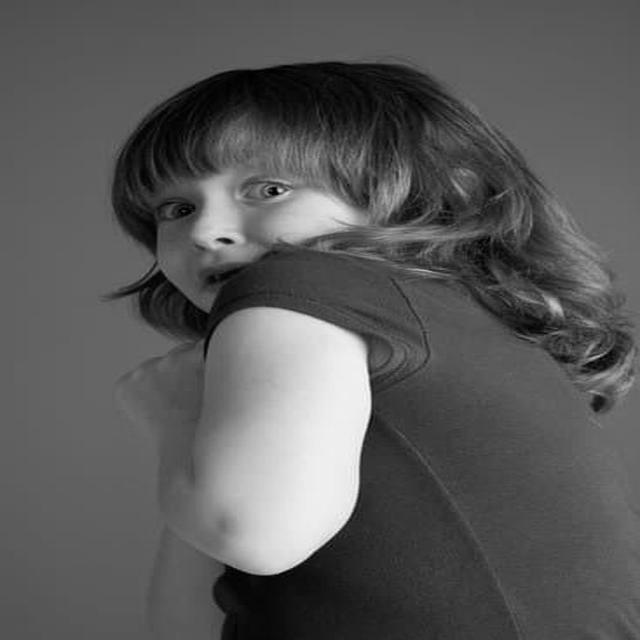Fear: (156, 150, 348, 312)
